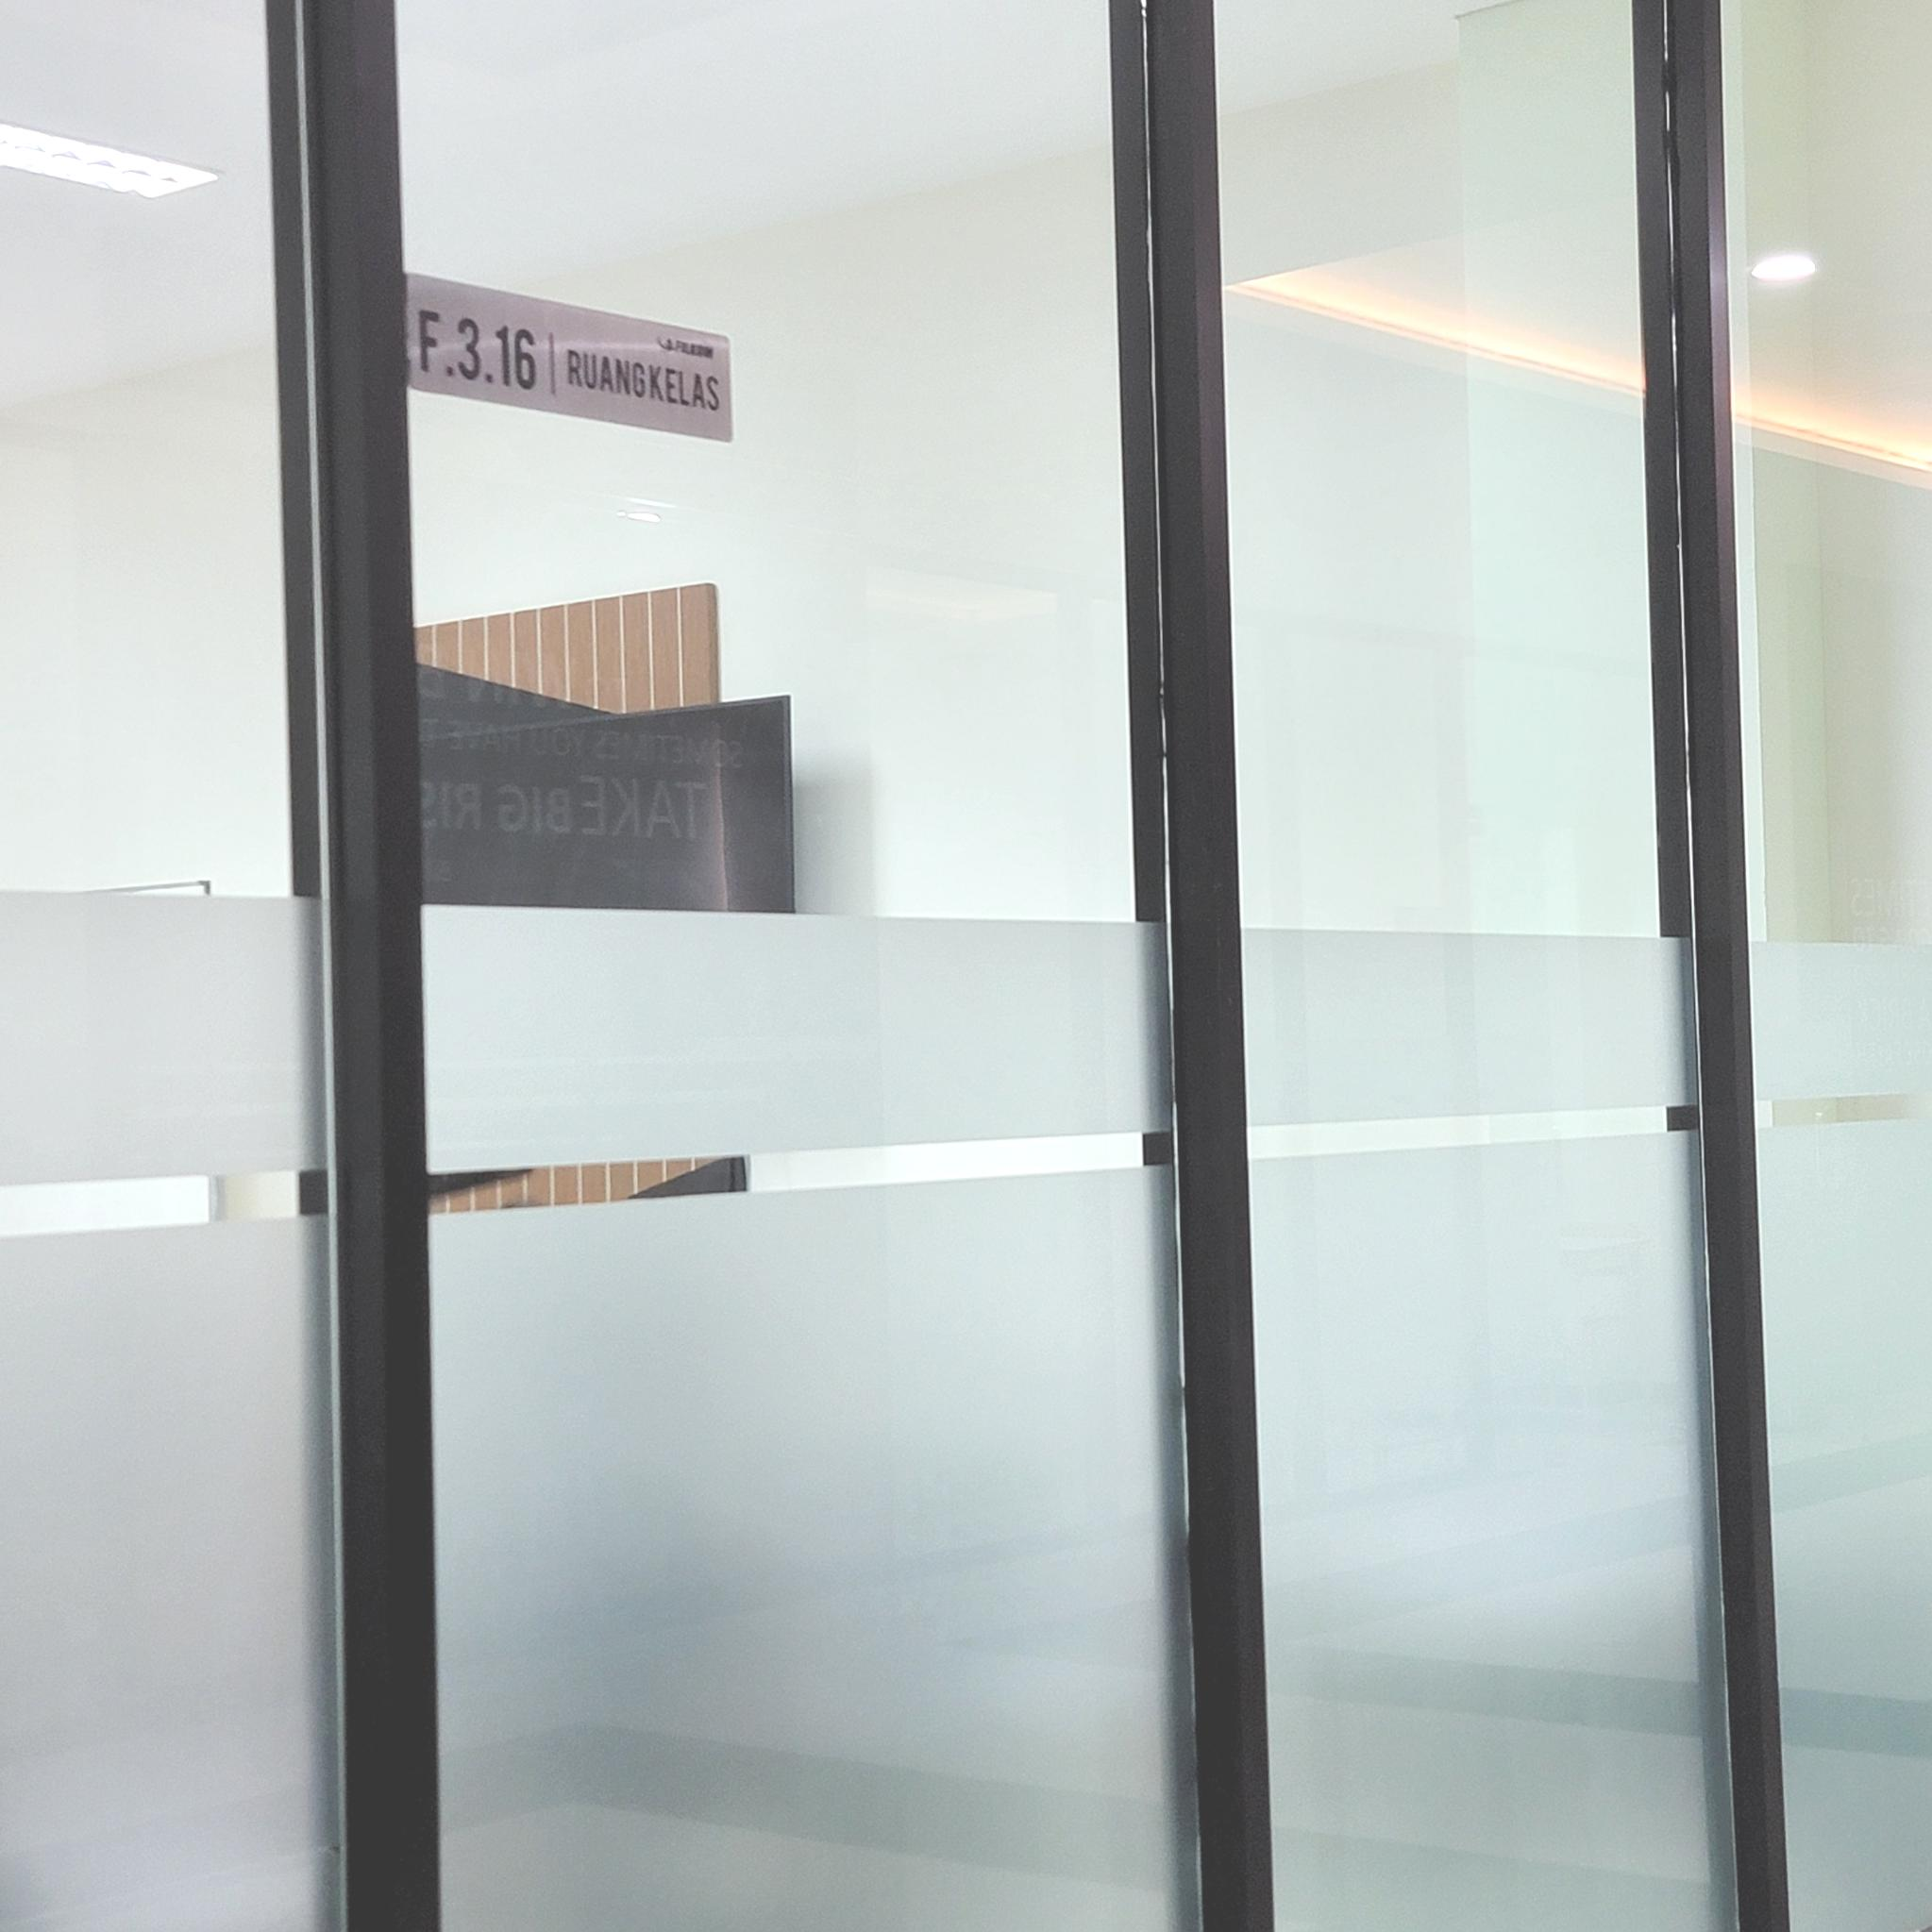plate: (407, 271, 732, 444)
